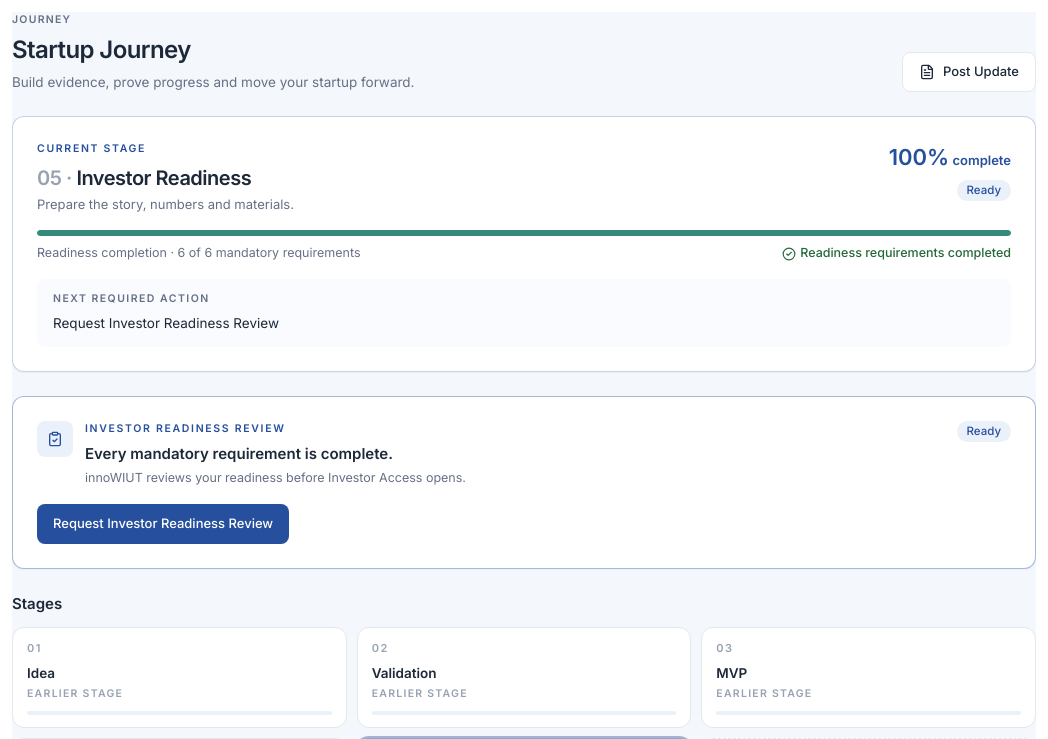
Scenario: Investor Readiness (founder) › requests the readiness review once everything is complete, then shows it pending
What coordinates should you click on to do the following:
click the button "Request Investor Readiness Review"
I would click on:
 (163, 524)
Its box is [37, 504, 289, 544].
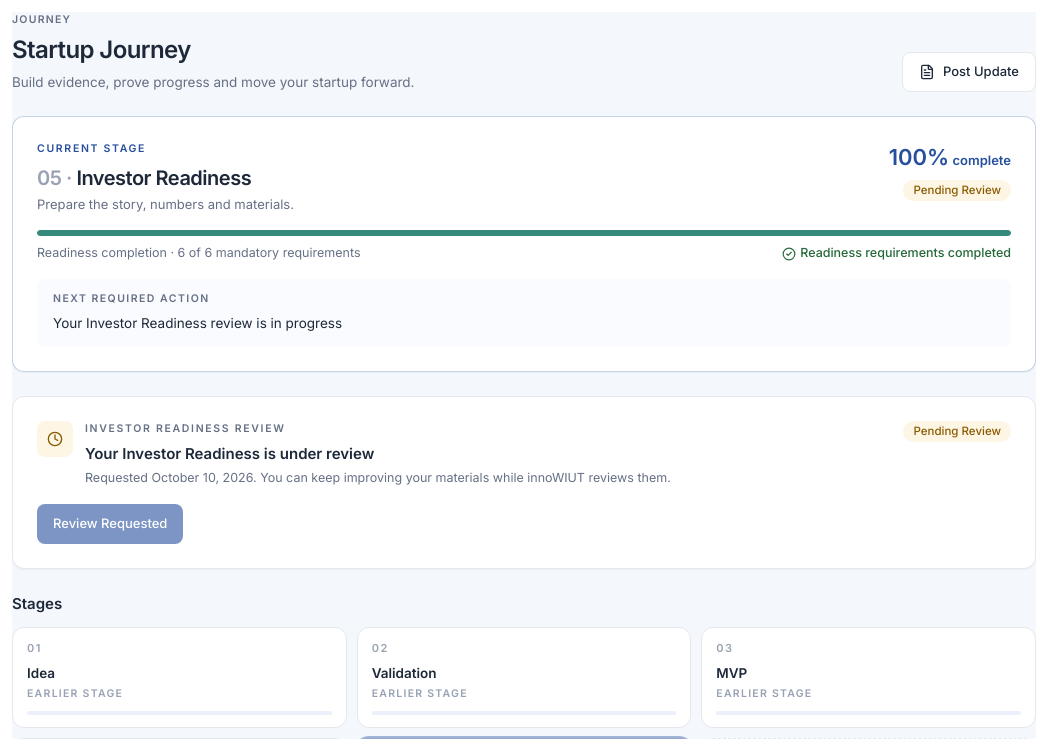
Expected: the text "Your Investor Readiness is under review" is shown, [85, 444, 374, 462]
Expected: the button "Review Requested" is disabled, [37, 504, 183, 544]
